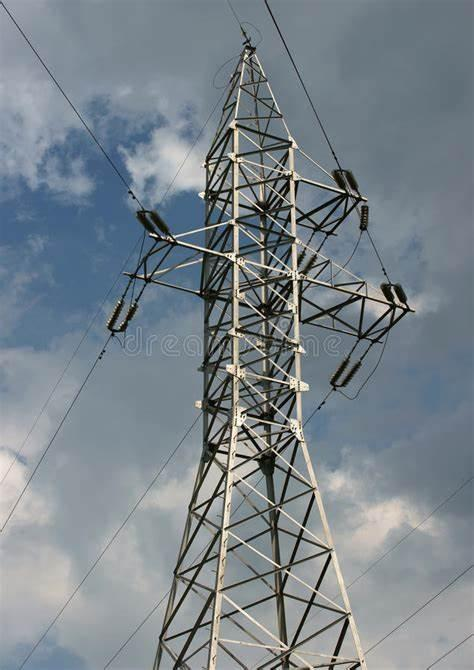power_tower: (105, 40, 414, 670)
